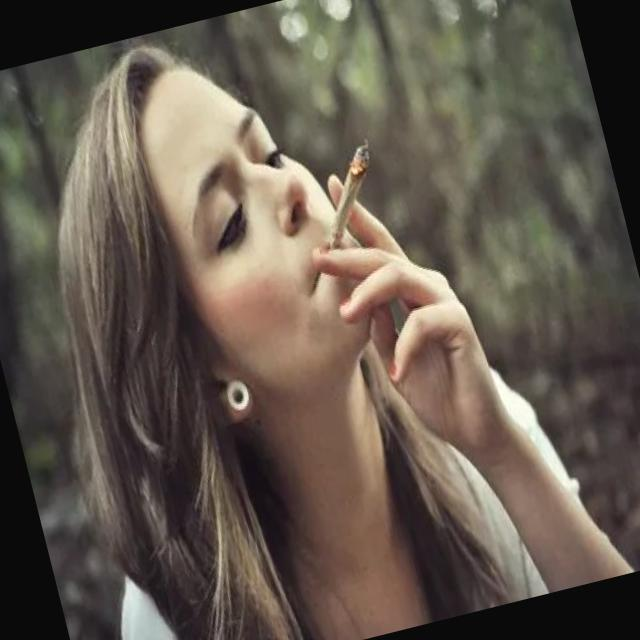cigarette: (304, 138, 394, 258)
